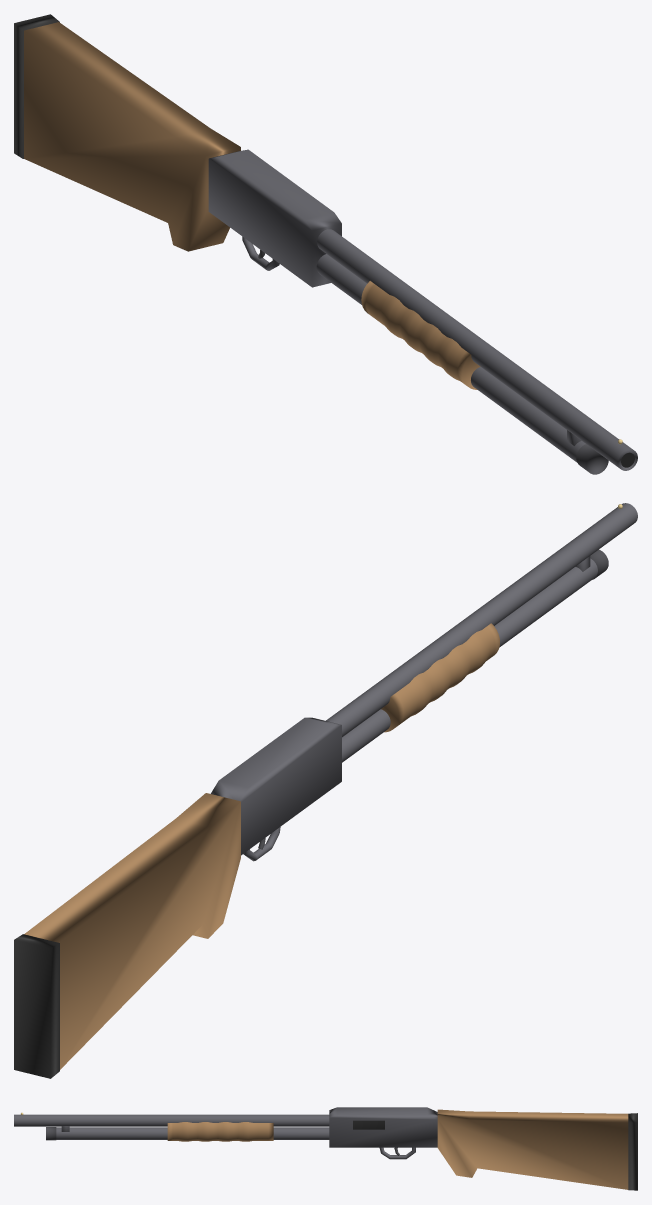
Rendered from shotgun.glb.
3 renders of one model, top to bottom at view 1: azimuth 30°, elevation 25°; view 2: azimuth 150°, elevation 25°; view 3: azimuth 270°, elevation 25°, orthographic. The views are drawn at different scales.
Parts seen in each view (by area): view 1: Stock, Barrel, Receiver, Pump; view 2: Stock, Barrel, Receiver, Pump; view 3: Stock, Barrel, Receiver, Pump.
Boxes of the visible parts, x1,y1,x2,y2 form: Stock: (14,14,240,251); Barrel: (316,229,637,474); Receiver: (208,149,341,287); Pump: (361,281,480,389); Stock: (14,793,240,1078); Barrel: (326,503,637,762); Receiver: (210,717,341,861); Pump: (381,623,499,732); Stock: (437,1109,637,1190); Barrel: (14,1112,329,1140); Receiver: (329,1107,437,1159); Pump: (167,1122,273,1141).
Size of the model in its own units: 0.046 by 0.156 by 1.18.
